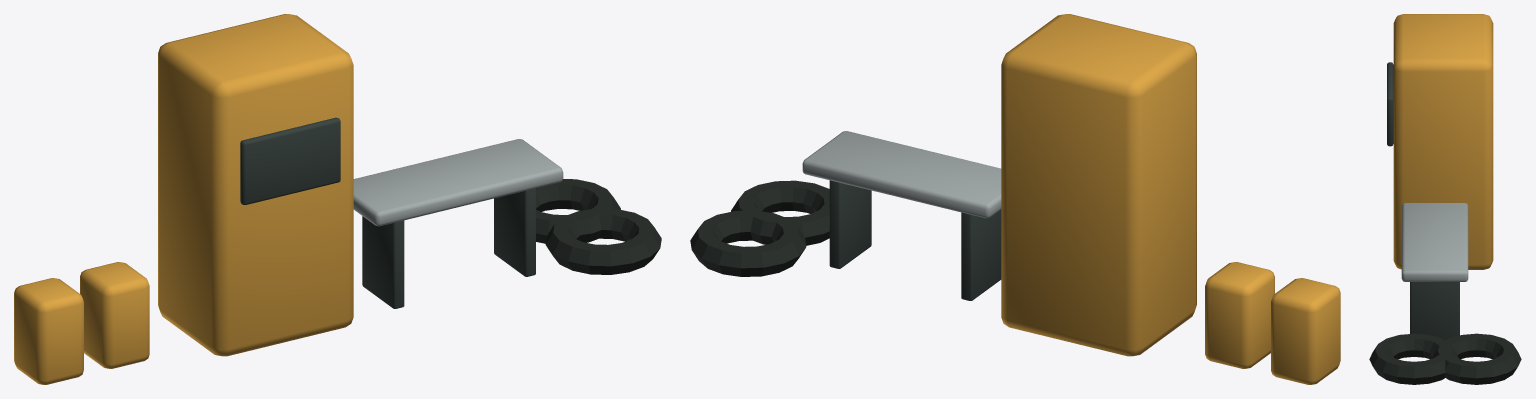
Rendered from mx-props.glb.
3 views of the same model, side by side, from view 1: azimuth 30°, elevation 25°; view 2: azimuth 150°, elevation 25°; view 3: azimuth 270°, elevation 25° (orthographic). The views are drawn at different scales.
Visible parts, largest first — view 1: fuel_can, bench_leg.001, tool_bench.001, spare_tyre; view 2: fuel_can, tool_bench.001, spare_tyre, bench_leg.001; view 3: fuel_can, spare_tyre, tool_bench.001, bench_leg.001.
Part boxes in pixels (left/top/right/bottom): fuel_can: left=14, top=14, right=353, bottom=384; bench_leg.001: left=240, top=117, right=535, bottom=308; tool_bench.001: left=353, top=139, right=563, bottom=226; spare_tyre: left=536, top=179, right=661, bottom=274; fuel_can: left=1001, top=14, right=1340, bottom=384; tool_bench.001: left=802, top=131, right=1001, bottom=218; spare_tyre: left=690, top=180, right=829, bottom=276; bench_leg.001: left=829, top=180, right=1001, bottom=300; fuel_can: left=1393, top=14, right=1493, bottom=269; spare_tyre: left=1369, top=333, right=1521, bottom=384; tool_bench.001: left=1401, top=203, right=1468, bottom=281; bench_leg.001: left=1387, top=62, right=1459, bottom=340.
Bounding box in the file's own units: 6.49 × 2.8 × 1.83.
